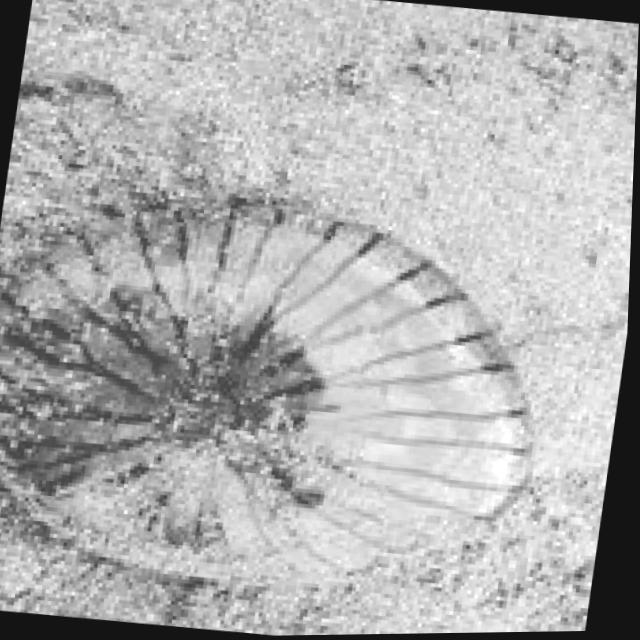Box-jellyfish: (0, 164, 571, 615)
